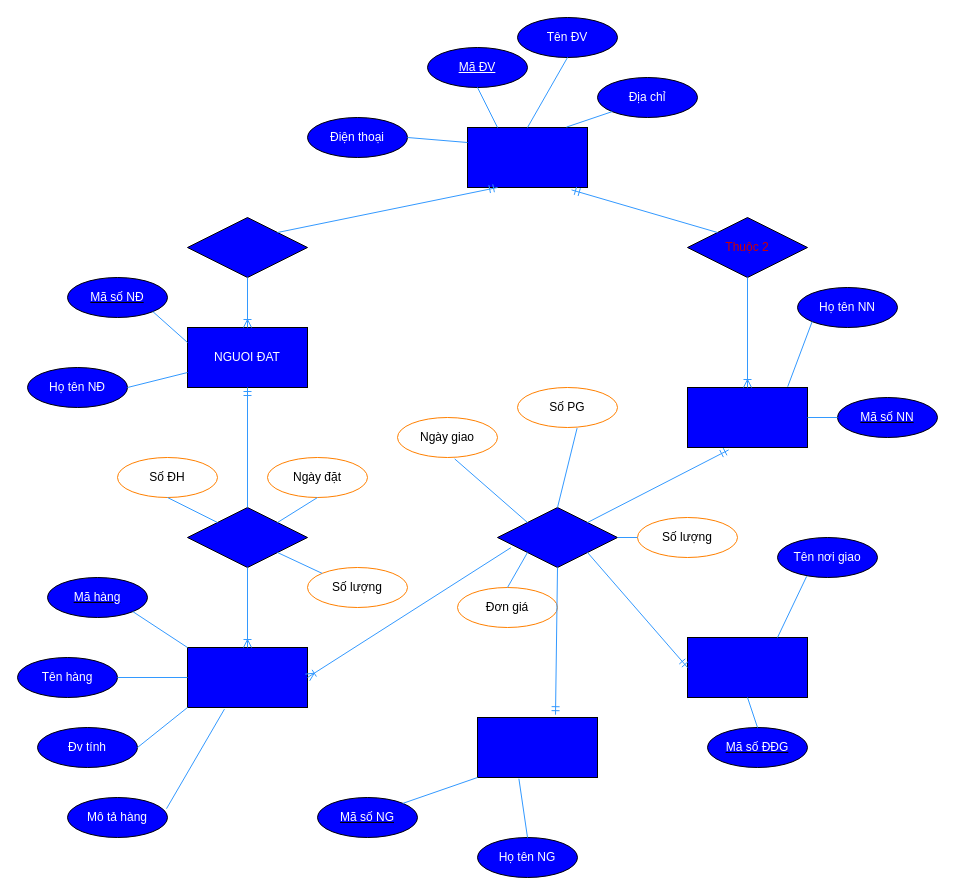
The diagram is 955 pixels wide and 895 high, and some of its shapes have lost their labels. Each missing label, with the centre of its shape:
Giao: the point at 557,537
HANG: the point at 247,677
NGUOI GIAO: the point at 537,747
NGUOI NHAN: the point at 747,417
NOI GIAO: the point at 747,667
Thuộc 1: the point at 247,247
ĐV KHACH: the point at 527,157
Đặt: the point at 247,537
